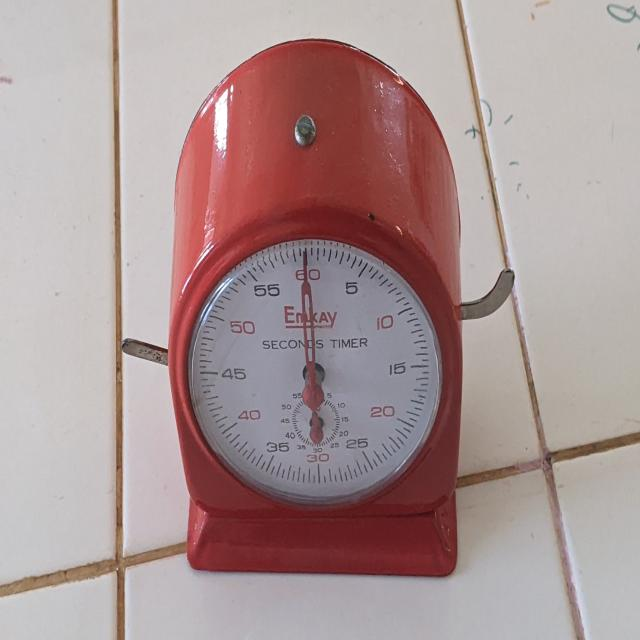Analog Stopwatch: (134, 32, 520, 590)
